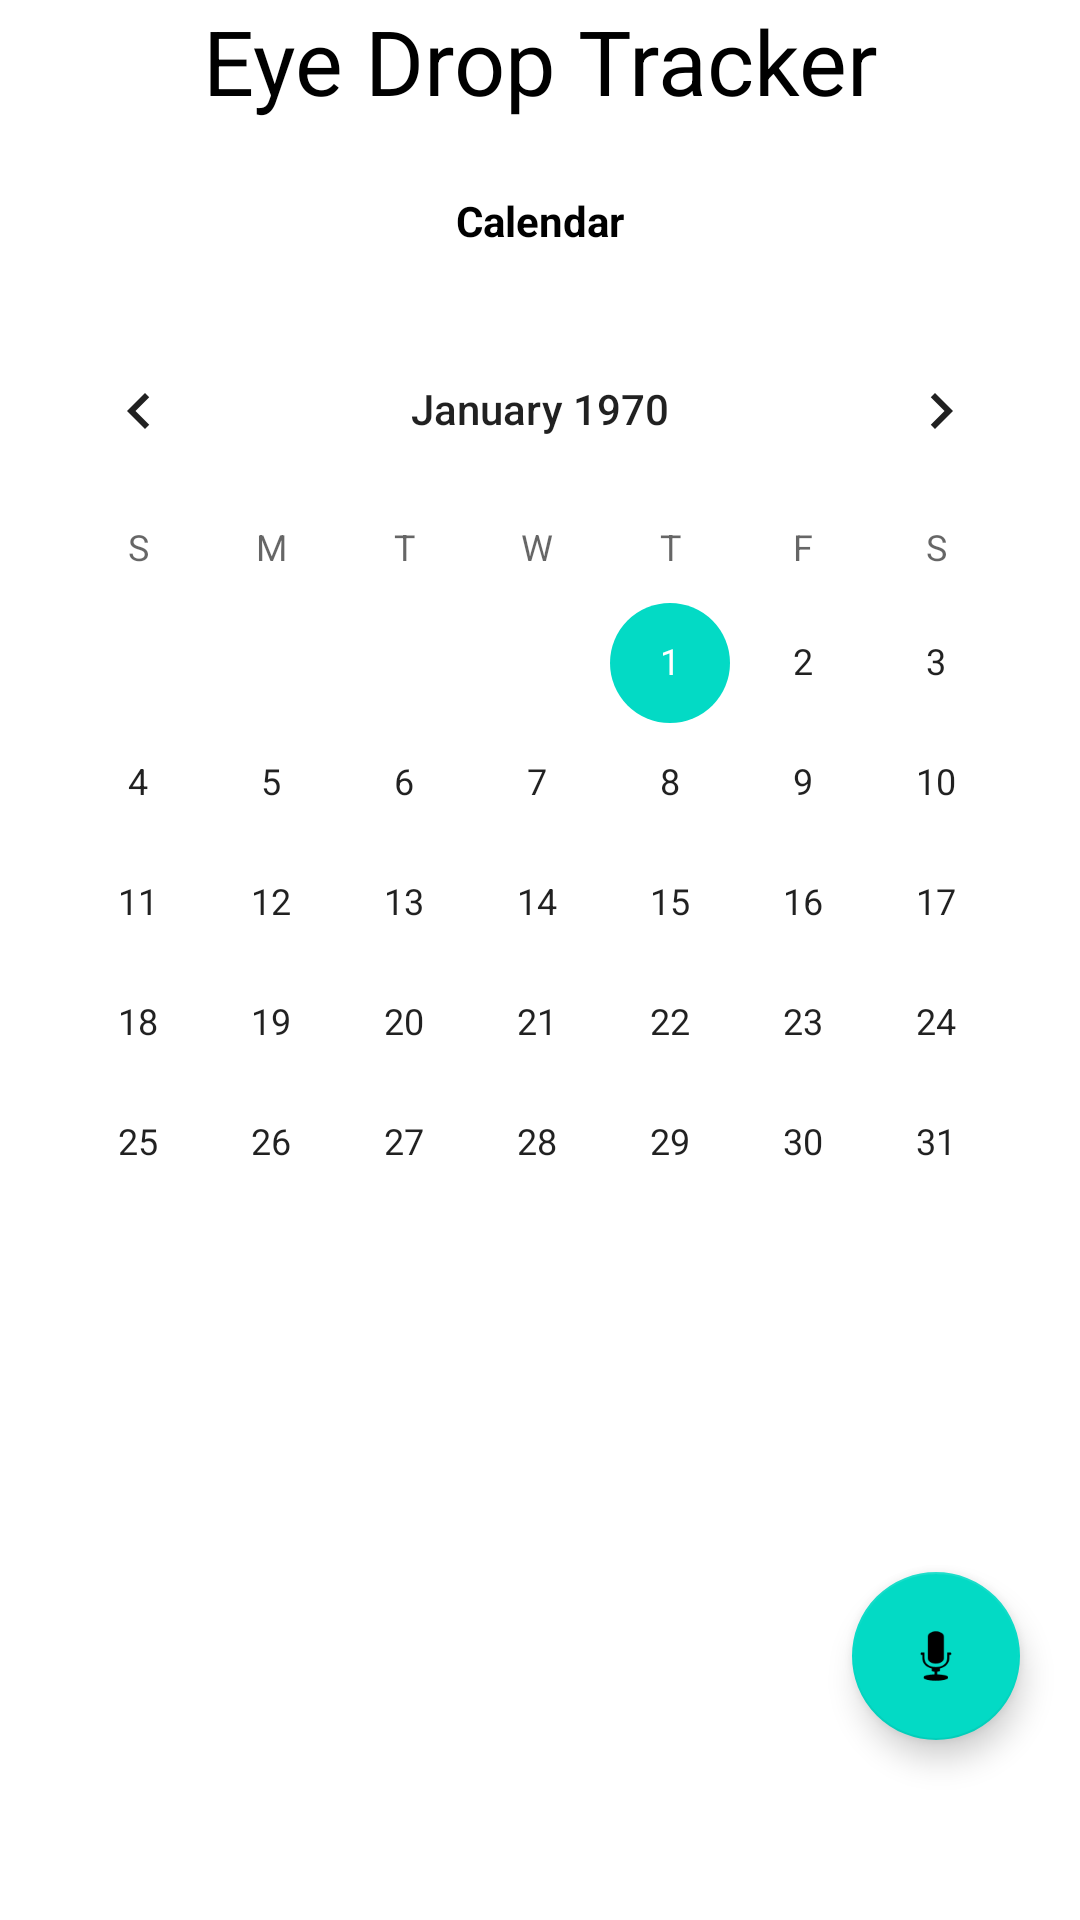

Icon click points for this 1080*1920 phone screenshot, format (x,y):
speak now: (936,1656)
